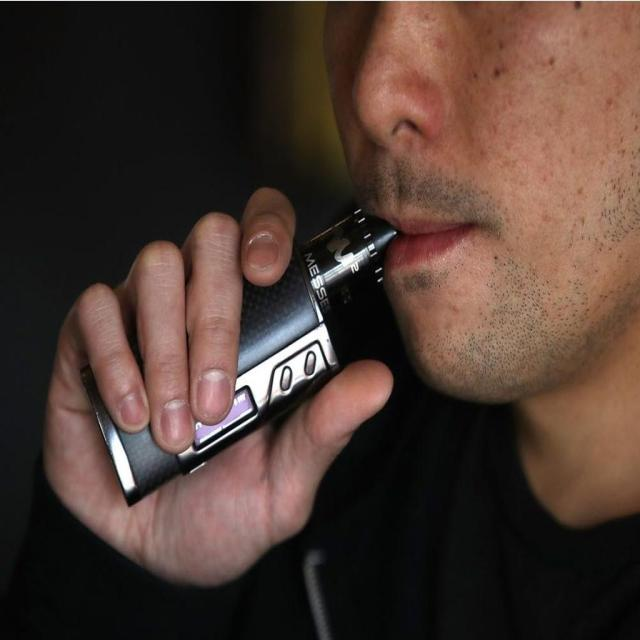smoking: (79, 0, 616, 507)
